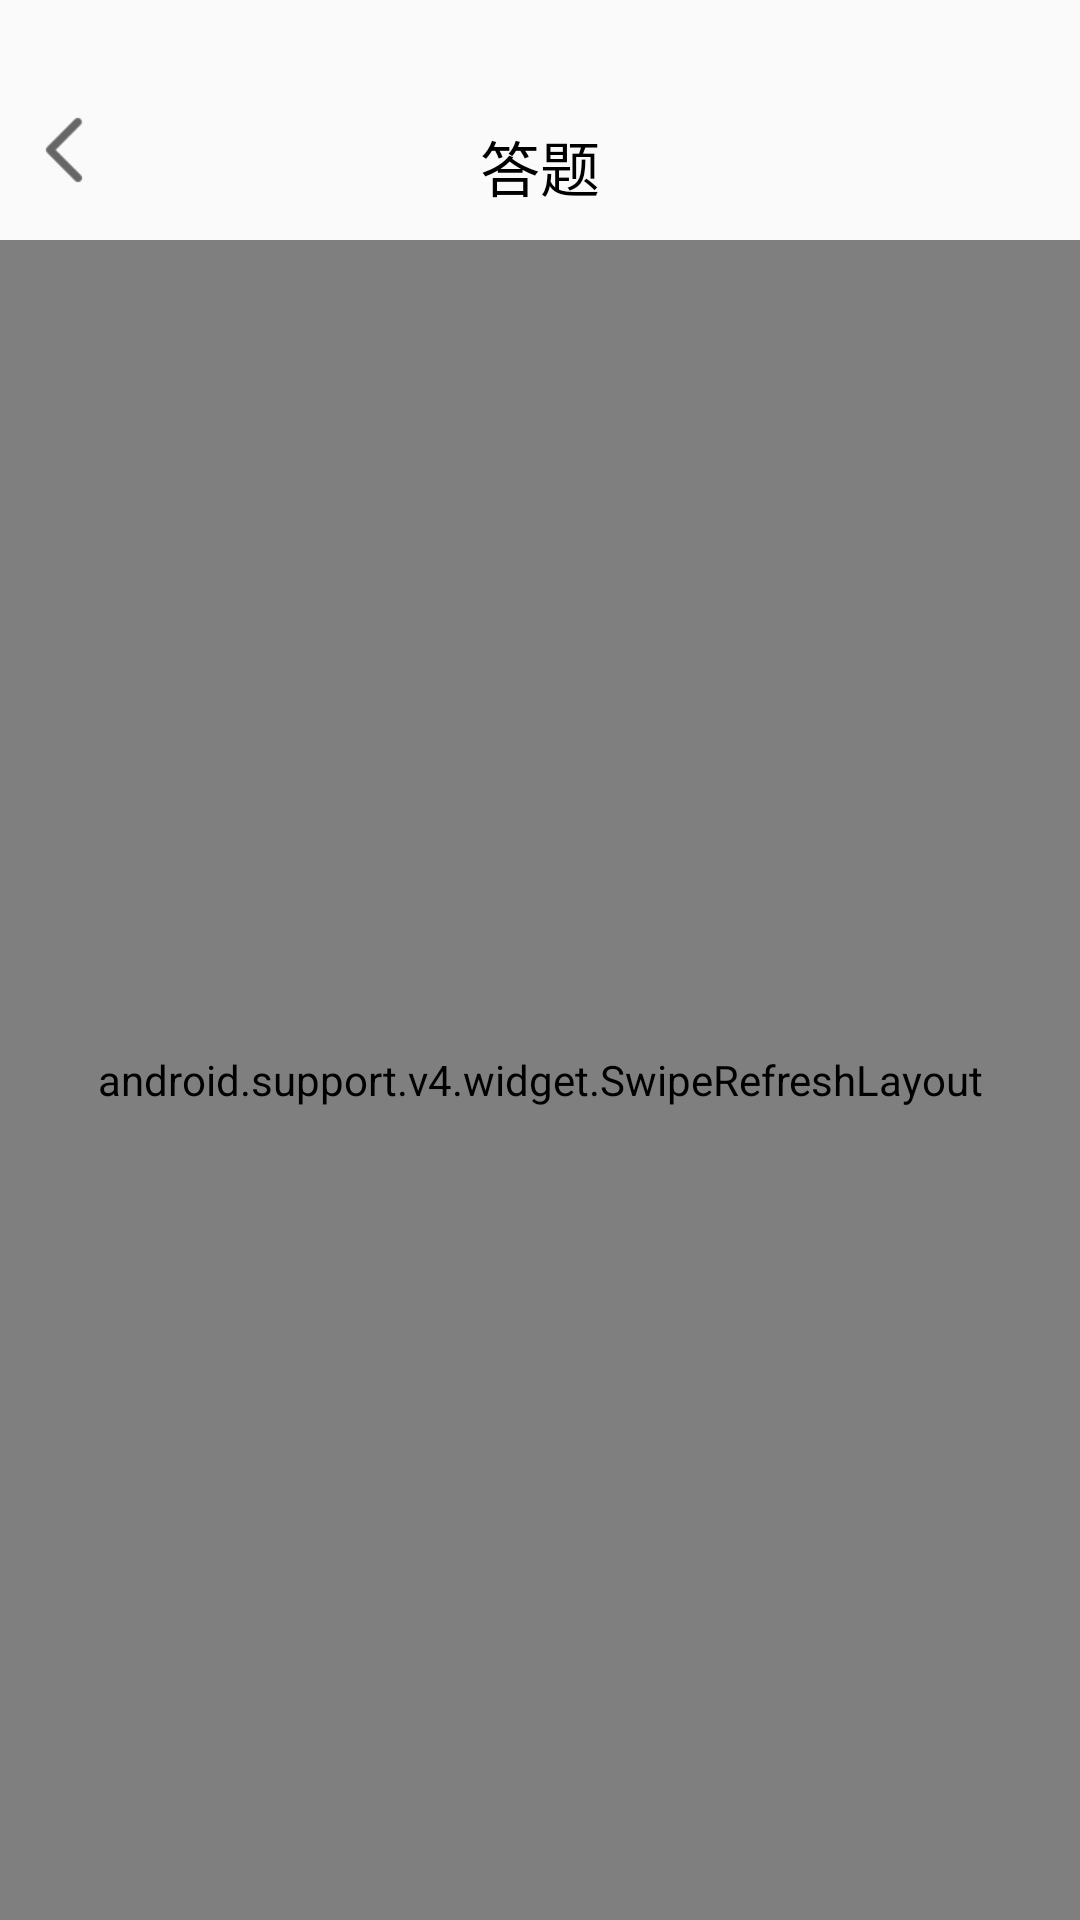

Screen size 1080*1920. Icon name, then its box in pixels as [x1=x1, y1=y1, x2=x2, y2=y2]:
recommend back: [x1=46, y1=118, x2=82, y2=182]
